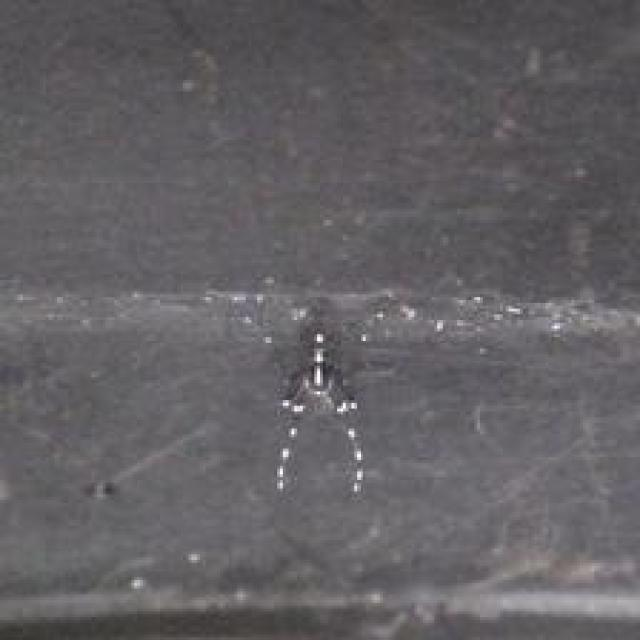Aedes albopictus: (270, 303, 367, 503)
